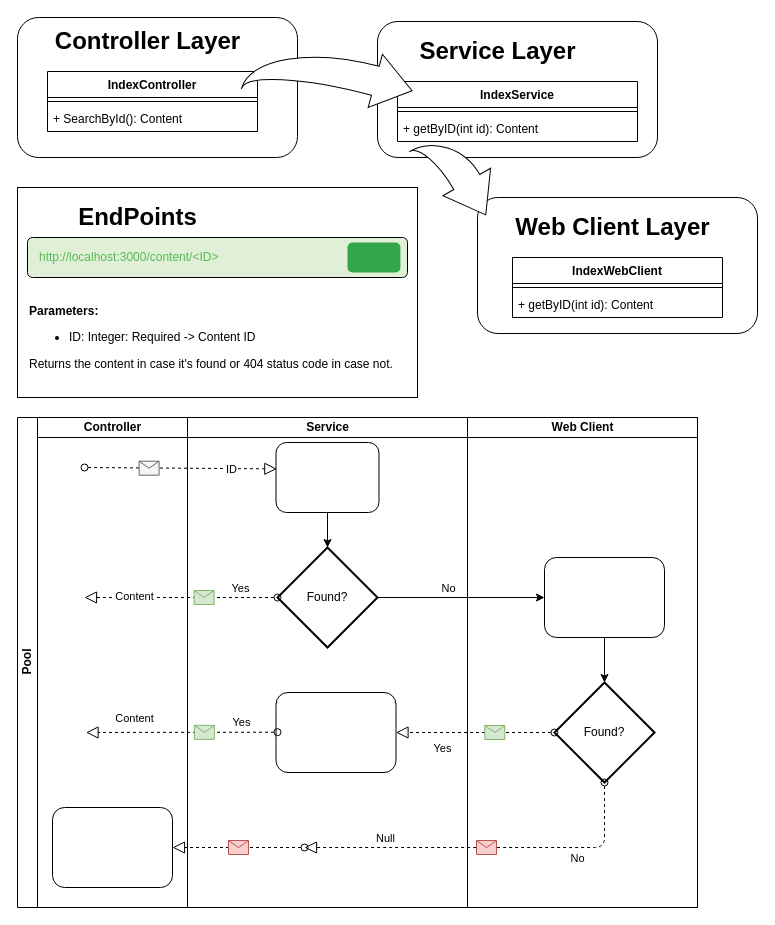
Some shapes in this 775 by 925 pixel diagram are drawn without their labels. The centre of each missing label's shape, as x and y in pixels:
"GET" goes at (x=373, y=257).
"Return 404" goes at (x=112, y=847).
"Save content on local DB" goes at (x=335, y=732).
"Search Content on external API" goes at (x=604, y=597).
"Search Content on local DB" goes at (x=327, y=477).
